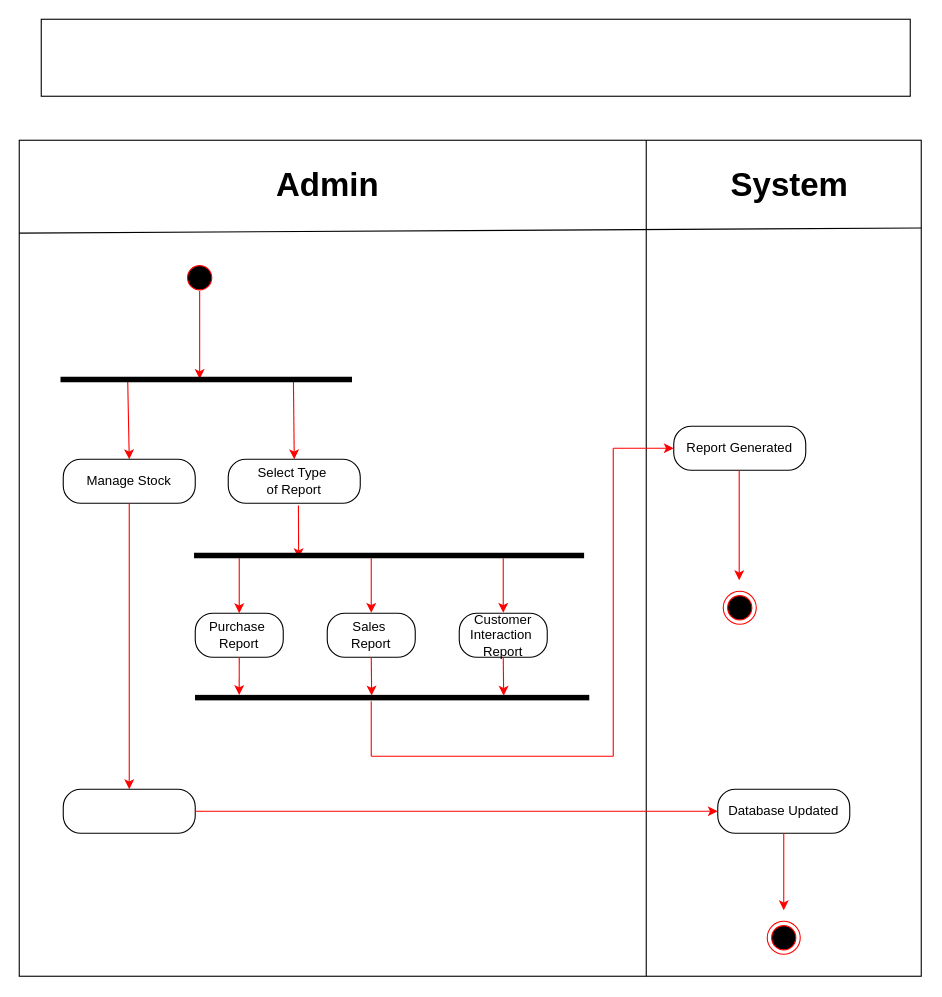
The diagram is 942 pixels wide and 997 high, and some of its shapes have lost their labels. The shapes that lost their labels are listed below. From the top down, each one's centre as x and y in pixels, then its label:
the point at 475,57: Inventory Management Activity Diagram
the point at 128,810: Review Changes
